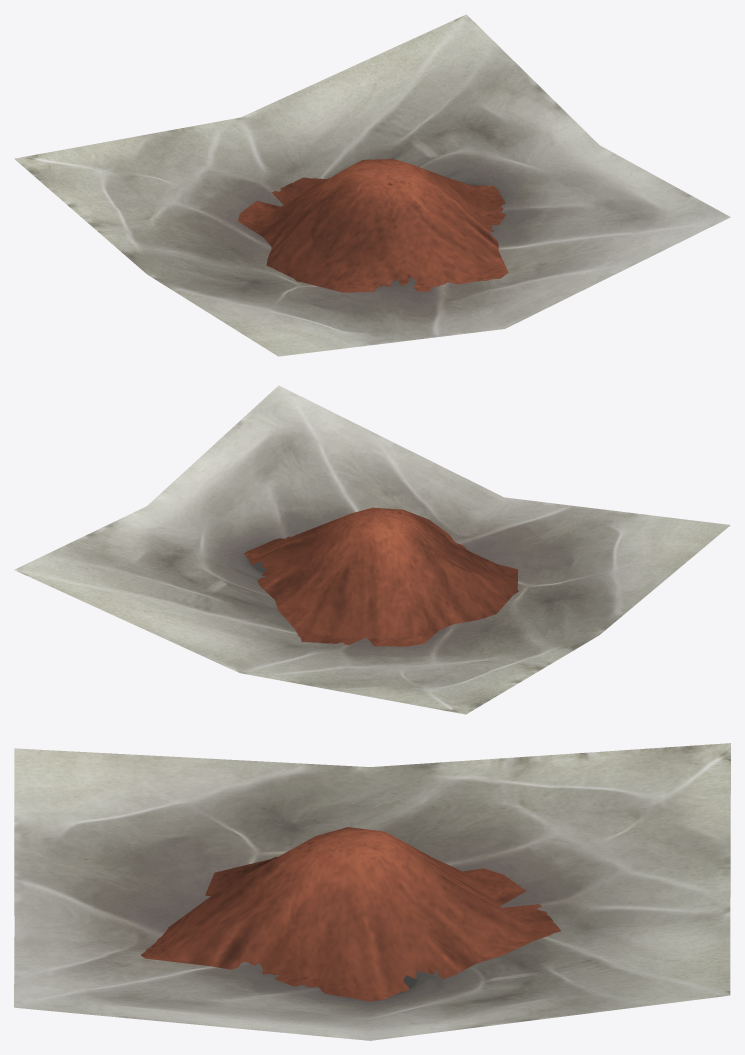
File: zhixuesan.FBX
3 renders of one model, top to bottom at view 1: azimuth 30°, elevation 25°; view 2: azimuth 150°, elevation 25°; view 3: azimuth 270°, elevation 25°, orthographic. The views are drawn at different scales.
Parts seen in each view (by area): view 1: zhixuesan; view 2: zhixuesan; view 3: zhixuesan.
Boxes of the visible parts, x1=… form: zhixuesan: x1=14, y1=14, x2=730, y2=356; zhixuesan: x1=14, y1=385, x2=730, y2=714; zhixuesan: x1=14, y1=743, x2=730, y2=1040.
Bounding box in the file's own units: 20.12 × 3.64 × 20.39.
